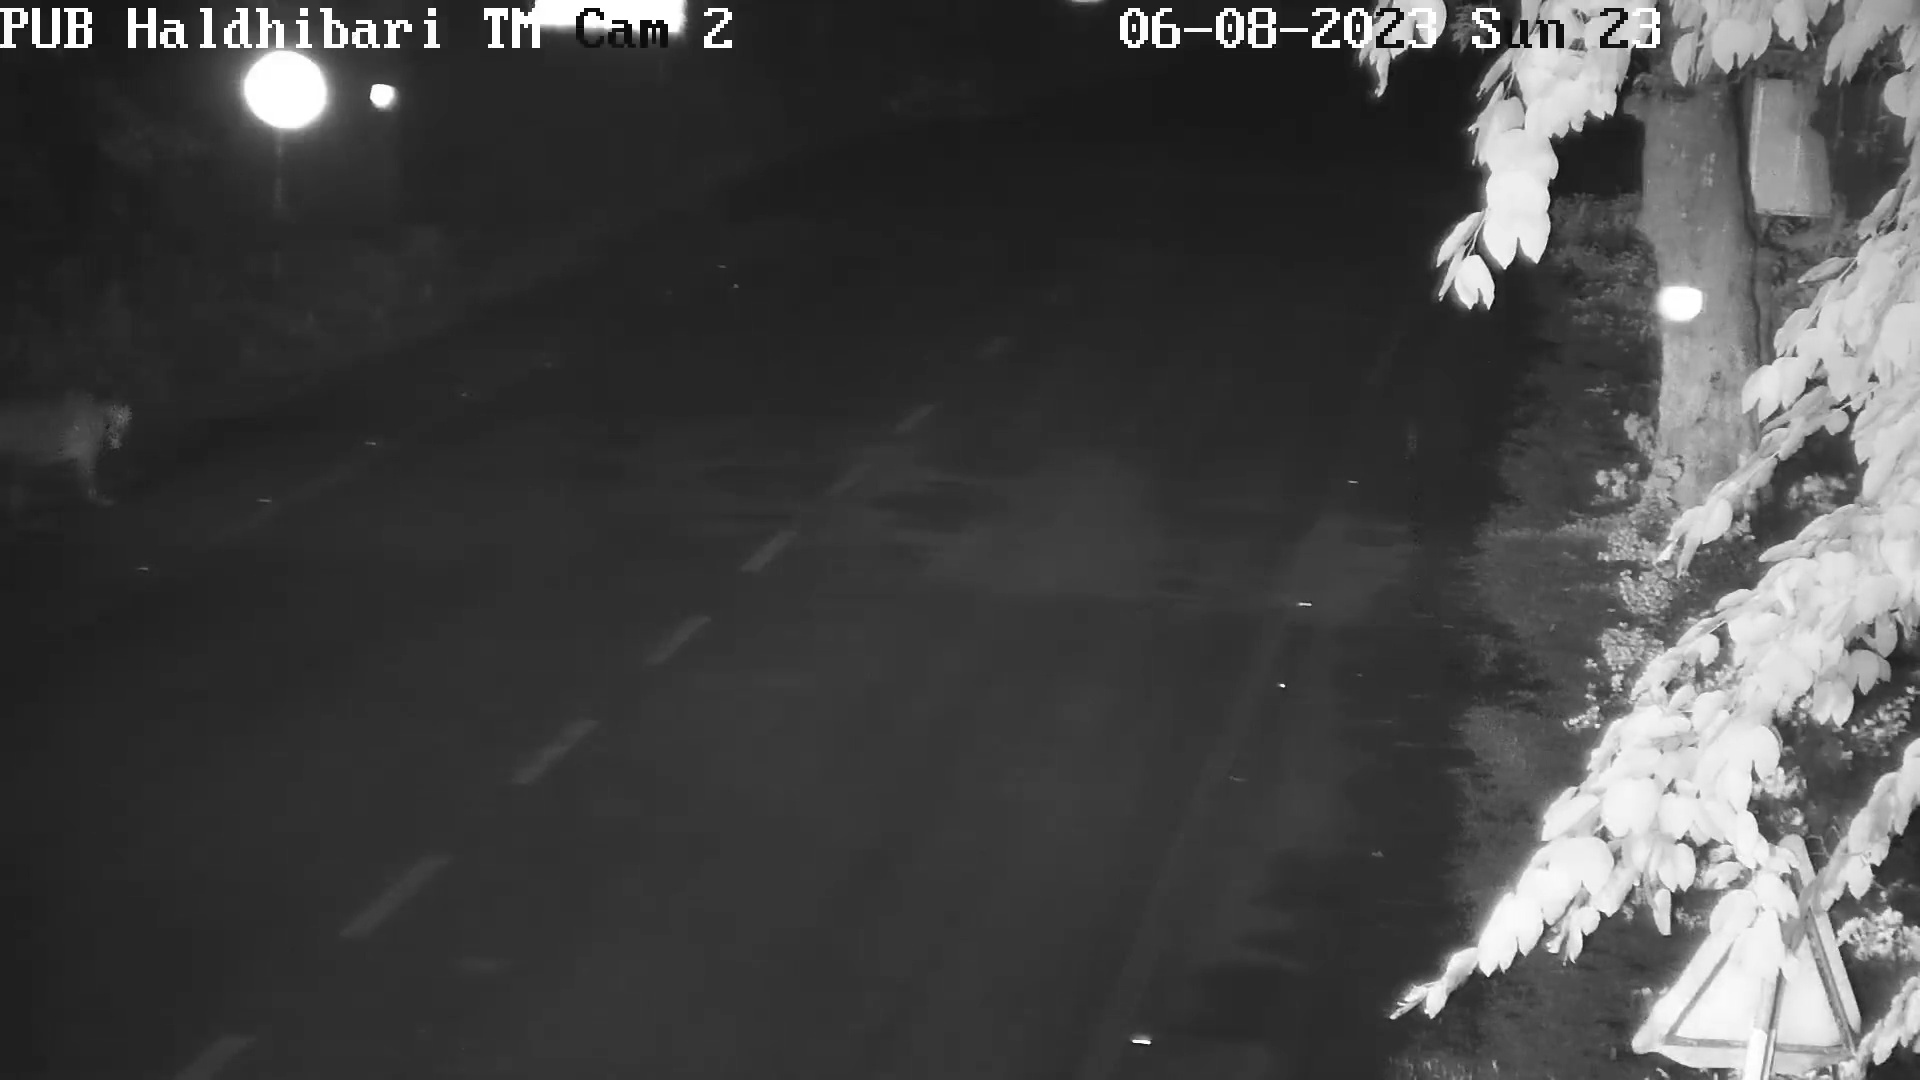tigers: (7, 375, 135, 501)
